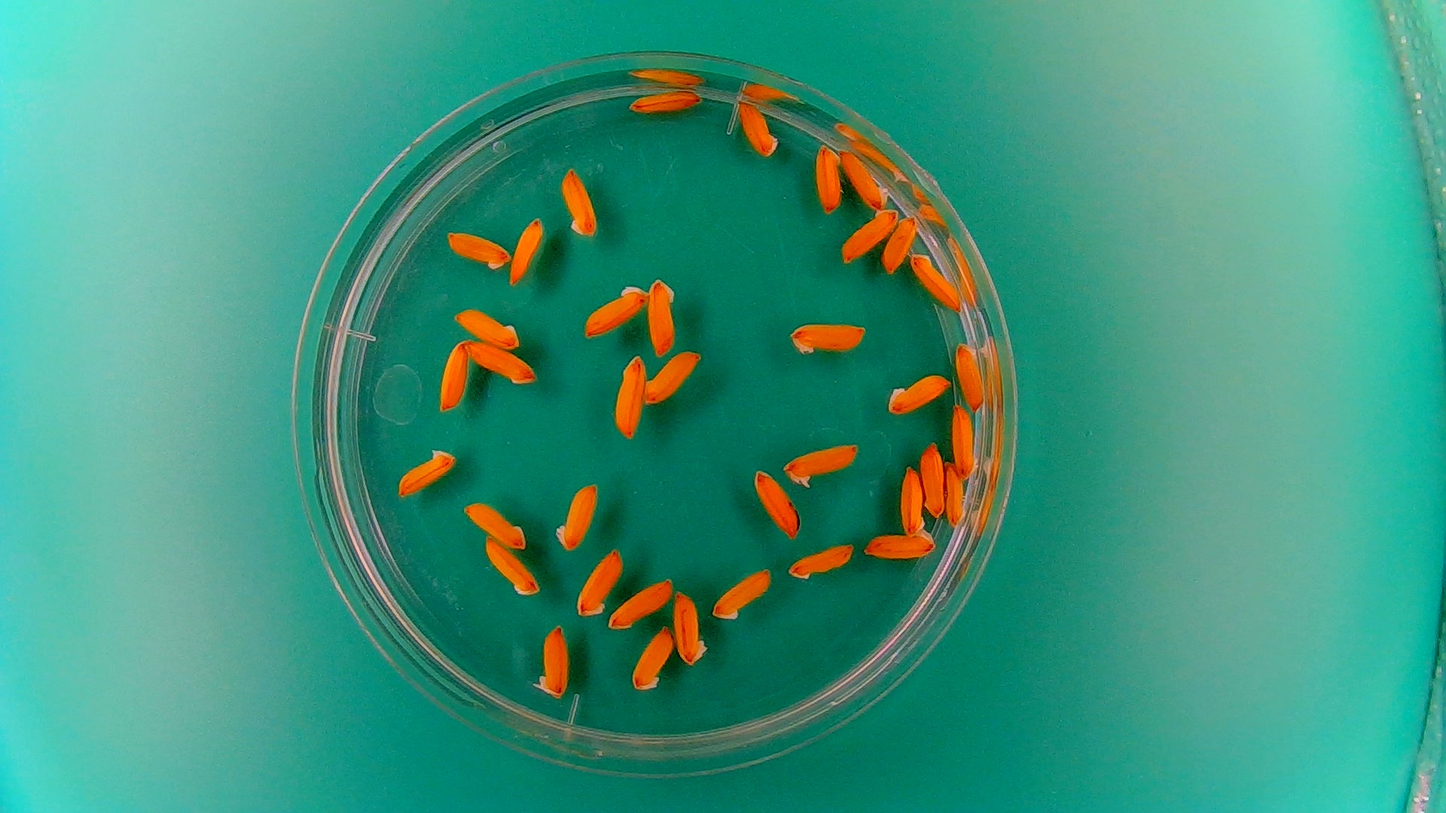no: (580, 282, 648, 339), (749, 466, 801, 540), (606, 574, 673, 631), (709, 565, 773, 623), (574, 545, 624, 618), (642, 349, 704, 407), (465, 337, 538, 386), (460, 498, 528, 549), (394, 445, 459, 498), (552, 479, 599, 552), (610, 353, 648, 443), (787, 317, 868, 358), (839, 206, 897, 263), (908, 249, 962, 310), (839, 146, 890, 210), (630, 622, 675, 693), (884, 370, 952, 416), (672, 587, 710, 668), (558, 164, 599, 239), (786, 540, 857, 583), (861, 524, 941, 562), (453, 305, 520, 349), (443, 227, 511, 270), (508, 214, 547, 287), (646, 276, 679, 357), (435, 339, 470, 414), (736, 98, 780, 157), (953, 338, 986, 411), (918, 439, 947, 519), (813, 141, 844, 214), (880, 214, 917, 275), (624, 87, 706, 114), (950, 403, 978, 480), (898, 464, 927, 536), (944, 461, 970, 528)
yes: (780, 439, 862, 488), (532, 621, 570, 701)
